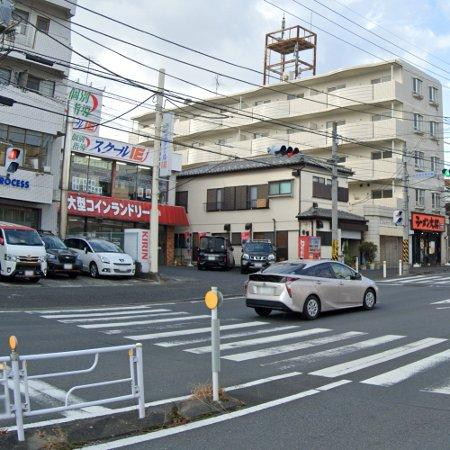crosswalks: (222, 321, 450, 396), (41, 304, 211, 356)
